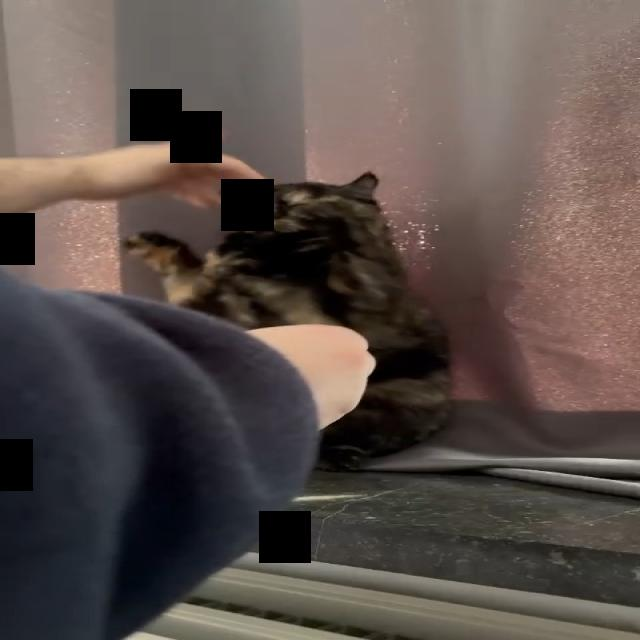authorized: (121, 170, 454, 472)
